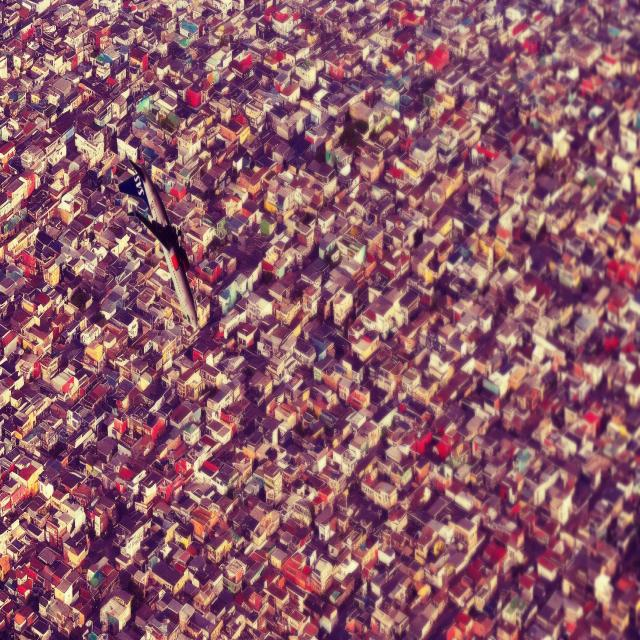airplane: (117, 156, 199, 335)
